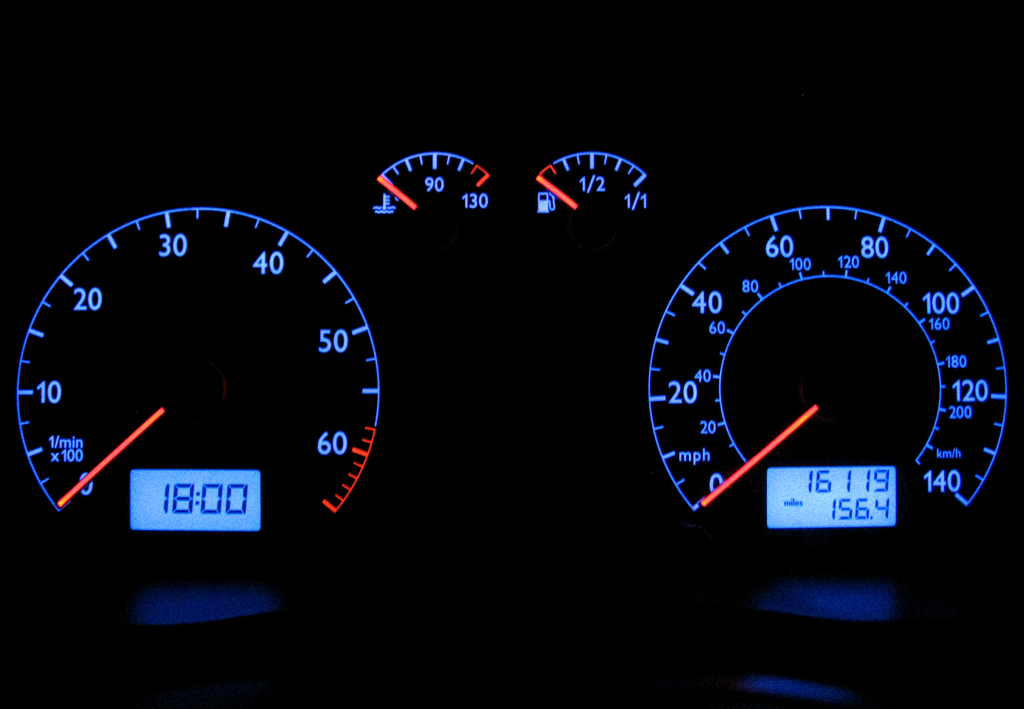Car: (0, 0, 1023, 707)
